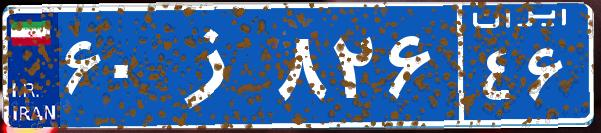0: (110, 28, 158, 105)
2: (330, 28, 385, 110)
4: (475, 38, 525, 113)
6: (385, 28, 445, 110), (57, 26, 110, 107), (525, 38, 570, 115)
8: (273, 28, 330, 110)
ز: (158, 15, 273, 115)
